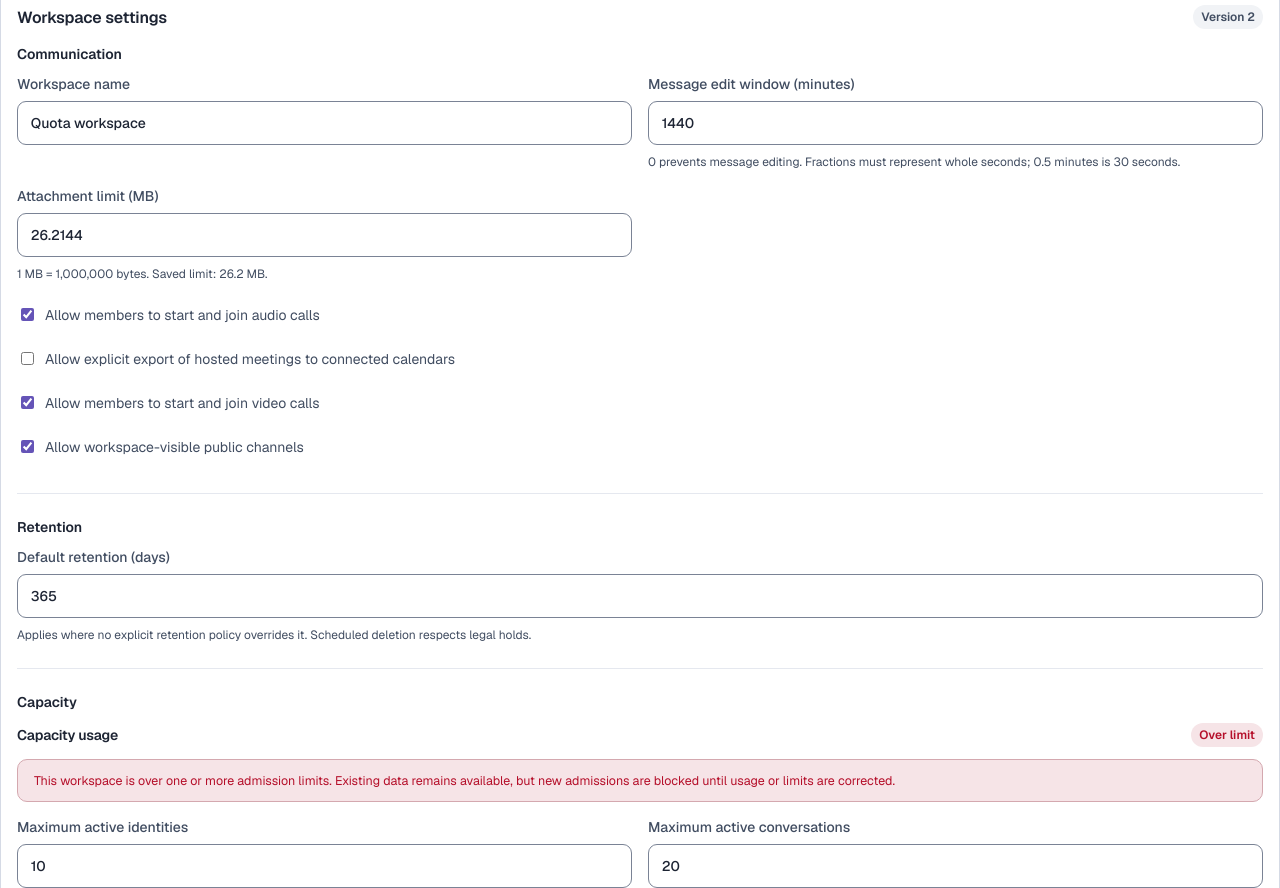
Test: TenantSettingsPanel › keeps draft values and the original version after a server conflict
The image size is (1280, 888).
Step 1. Replace the text in the number field labelled "Message edit window" with "5" → (956, 123), box 648,101 -> 1263,145
(page scrolled)
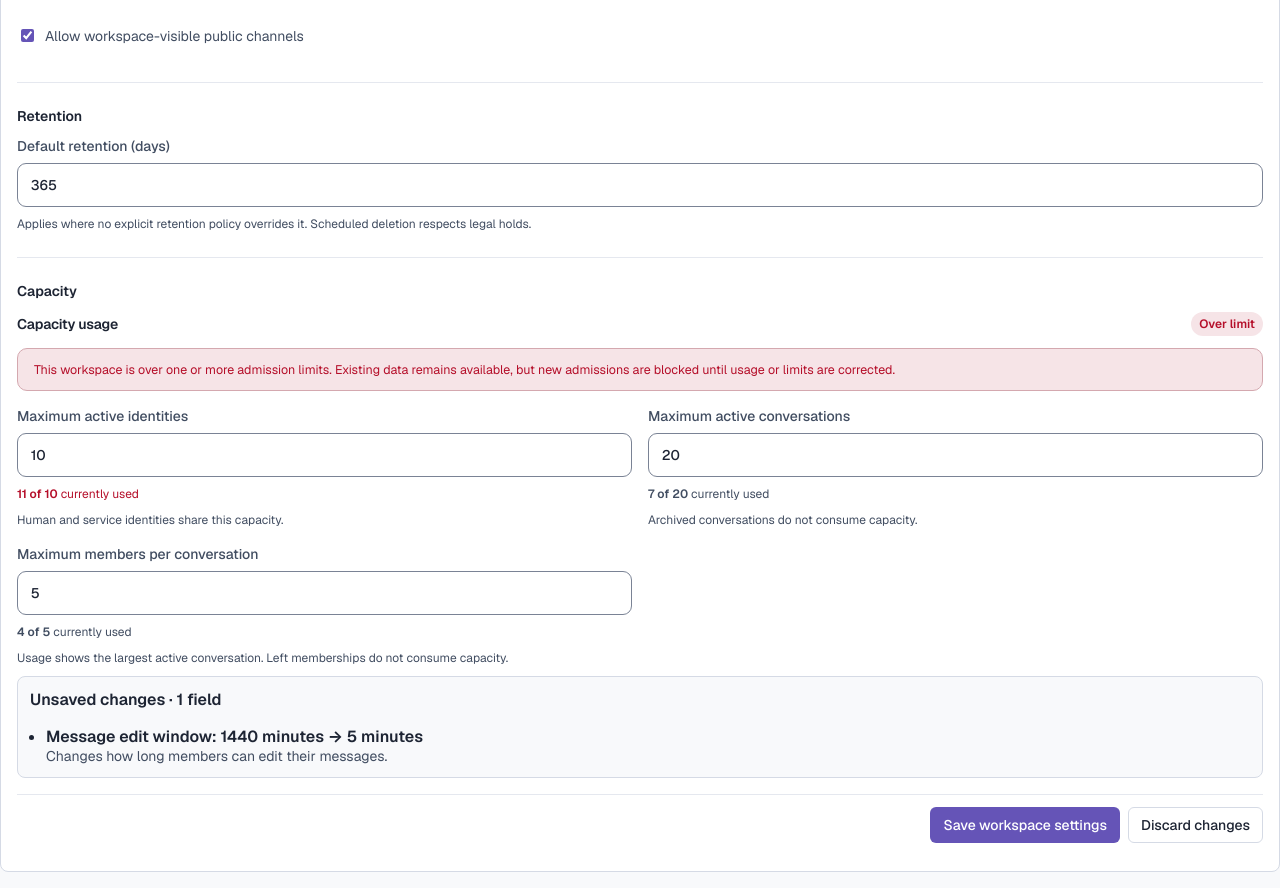
Step 2. Click the button "Save workspace settings" → (1025, 825), box 930,807 -> 1120,843
(page scrolled)
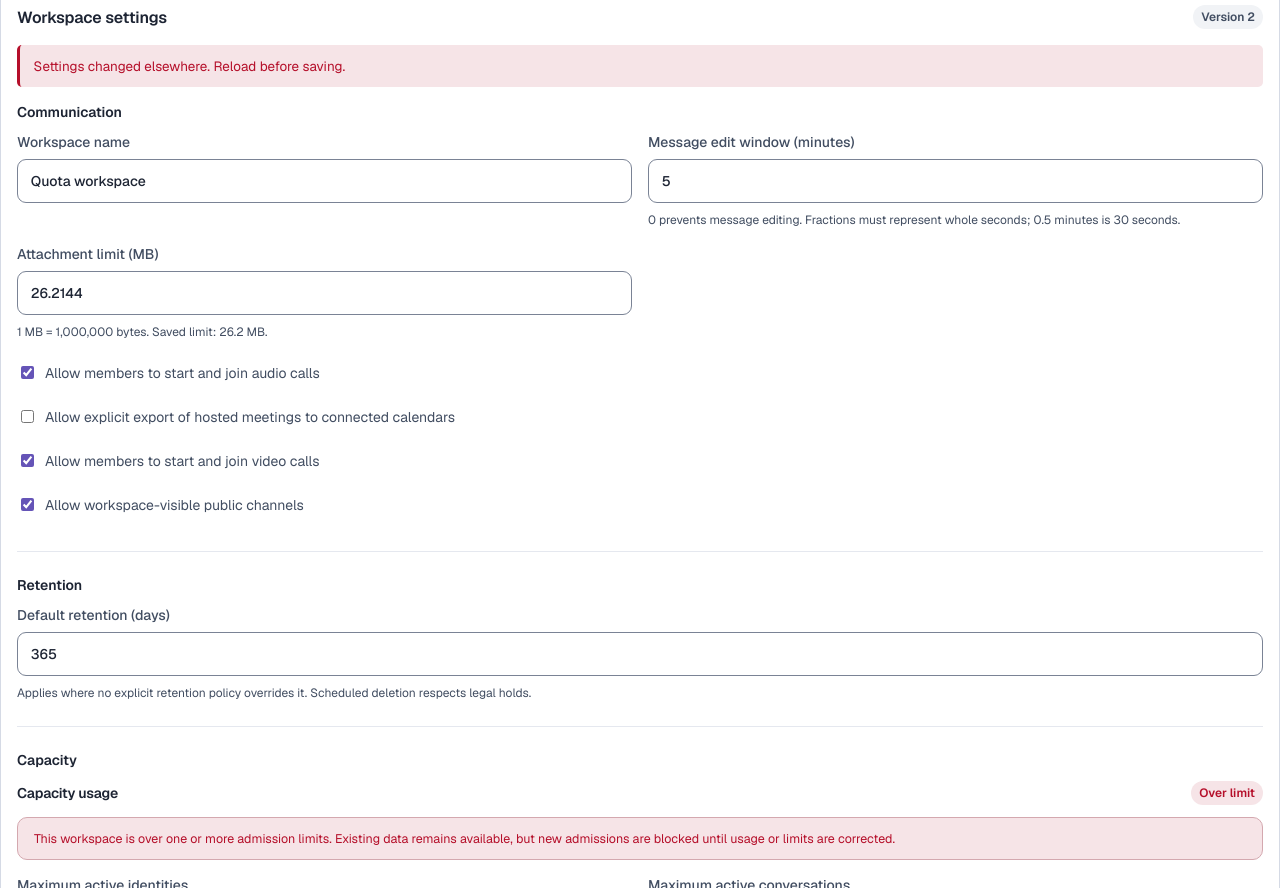
Expected: the text "Version 2" is shown, 1193,5 -> 1263,29
Result: the text "Settings changed elsewhere. Reload before saving." is shown at 17,45 -> 1263,87
